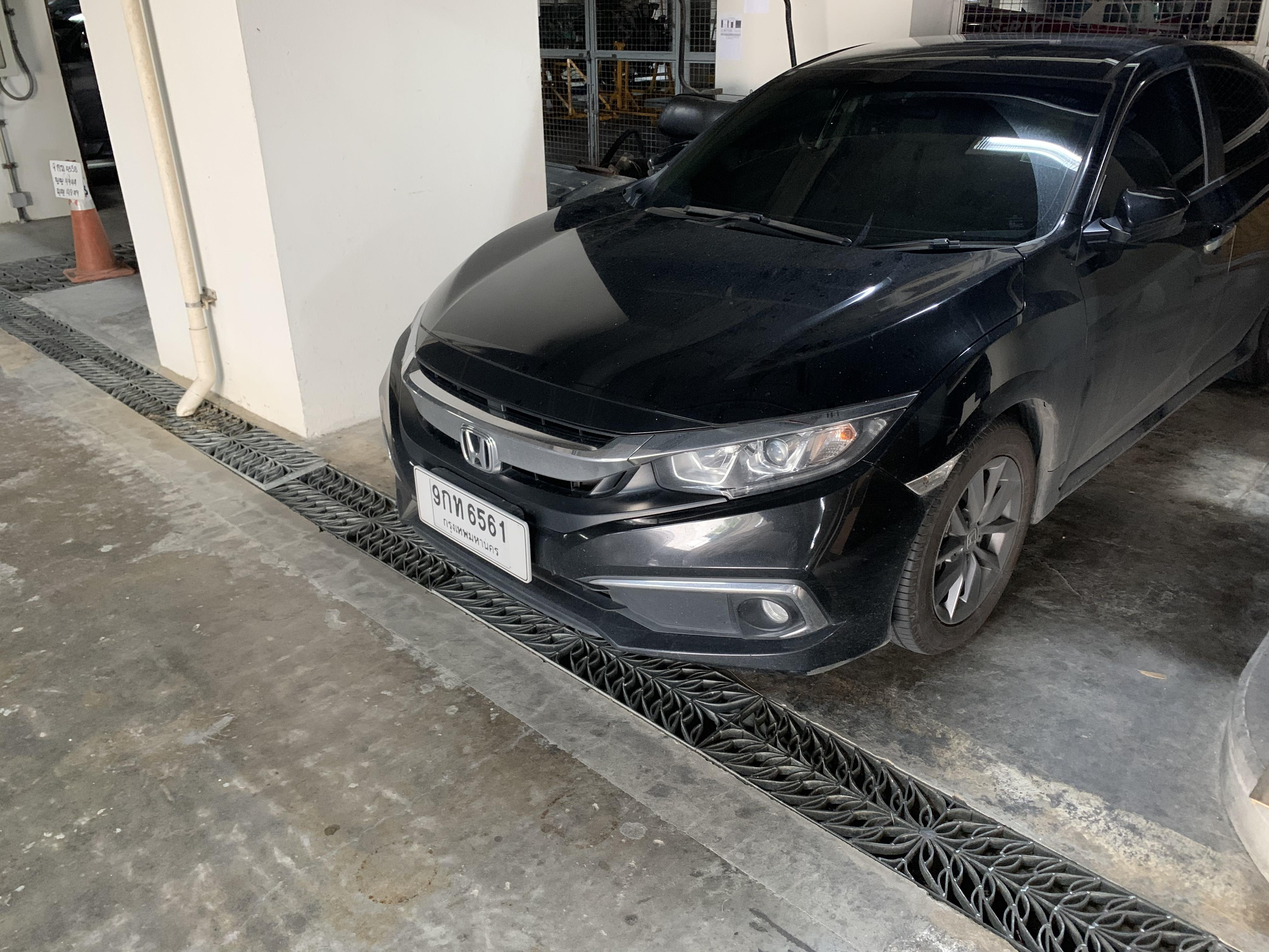license-plate: (413, 461, 536, 586)
